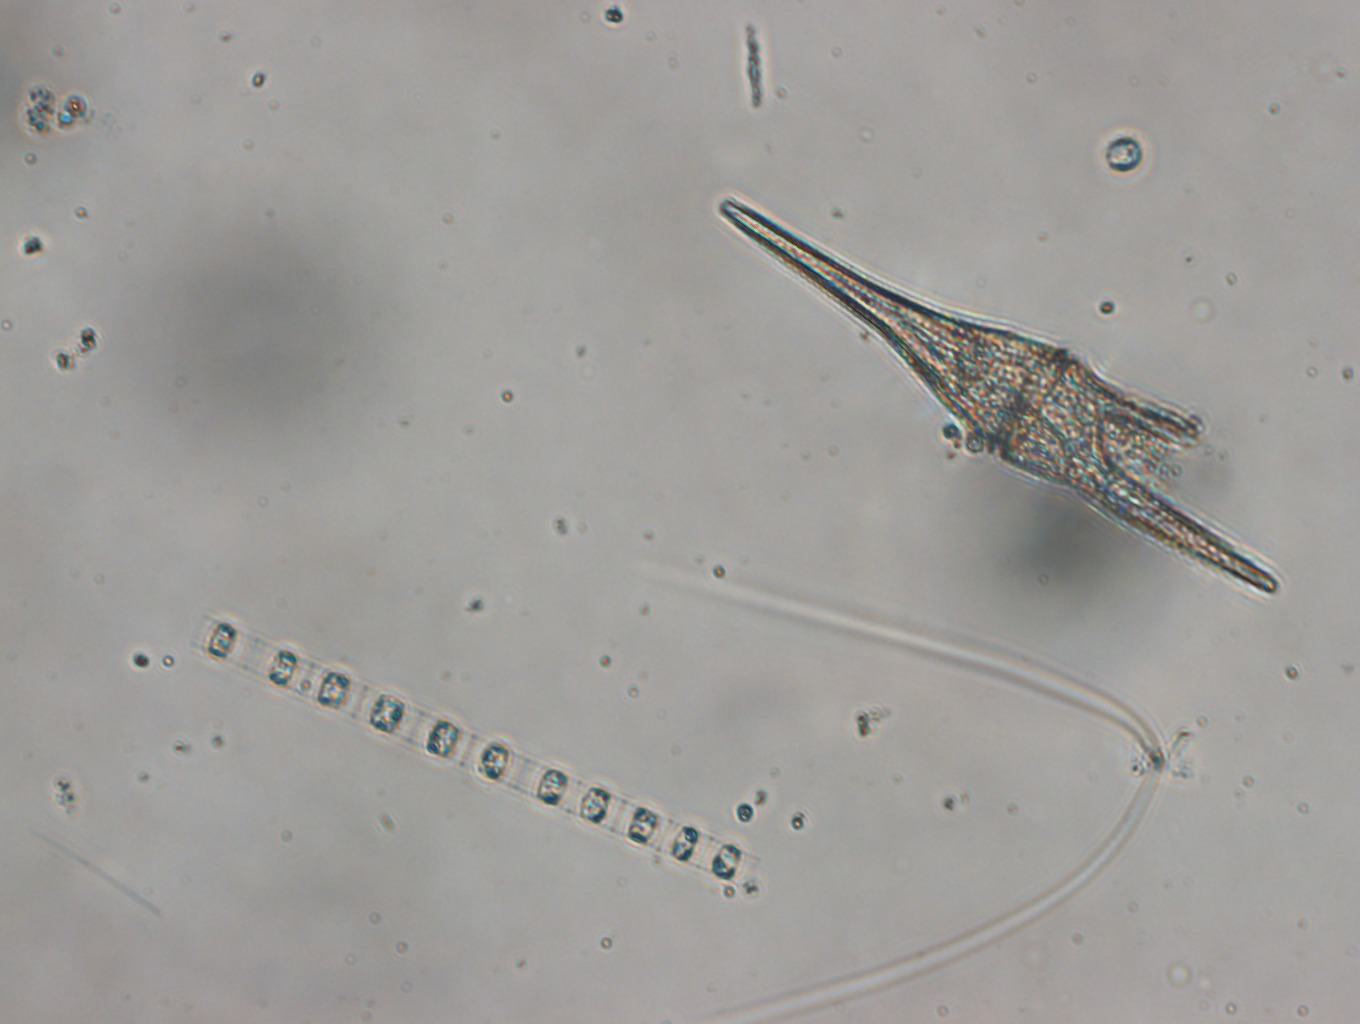ceratium furca: (711, 196, 1287, 609)
skeletonema: (187, 607, 760, 905)
